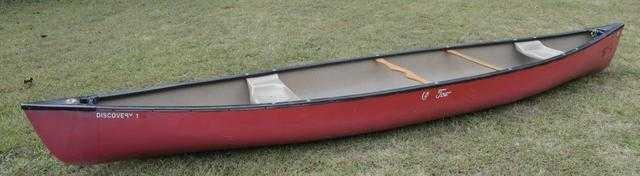kayak: (24, 23, 633, 161)
